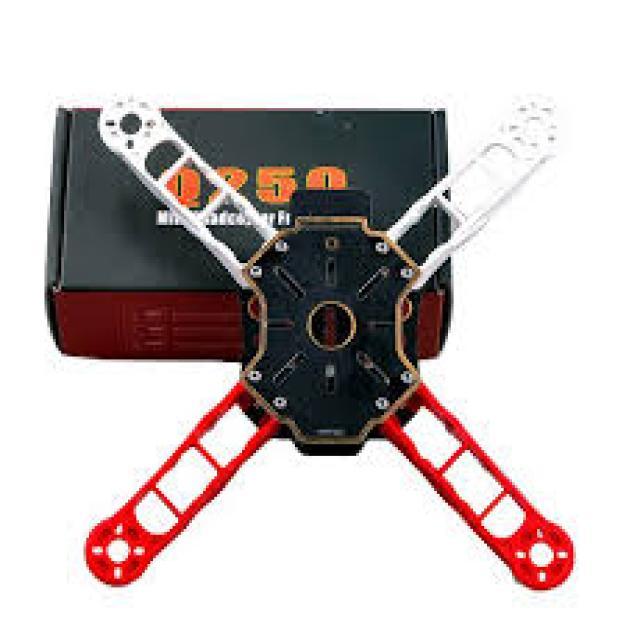drone: (88, 80, 584, 620)
